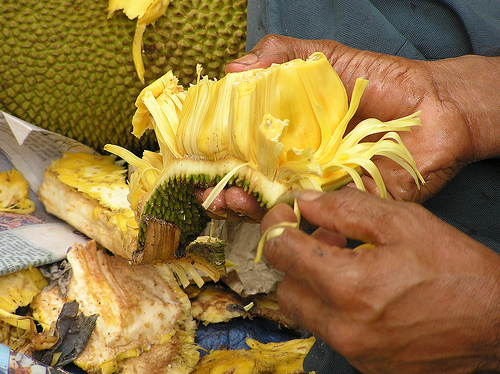jackfruit: (38, 50, 423, 247), (0, 0, 250, 157), (30, 239, 200, 373), (0, 164, 34, 215)
